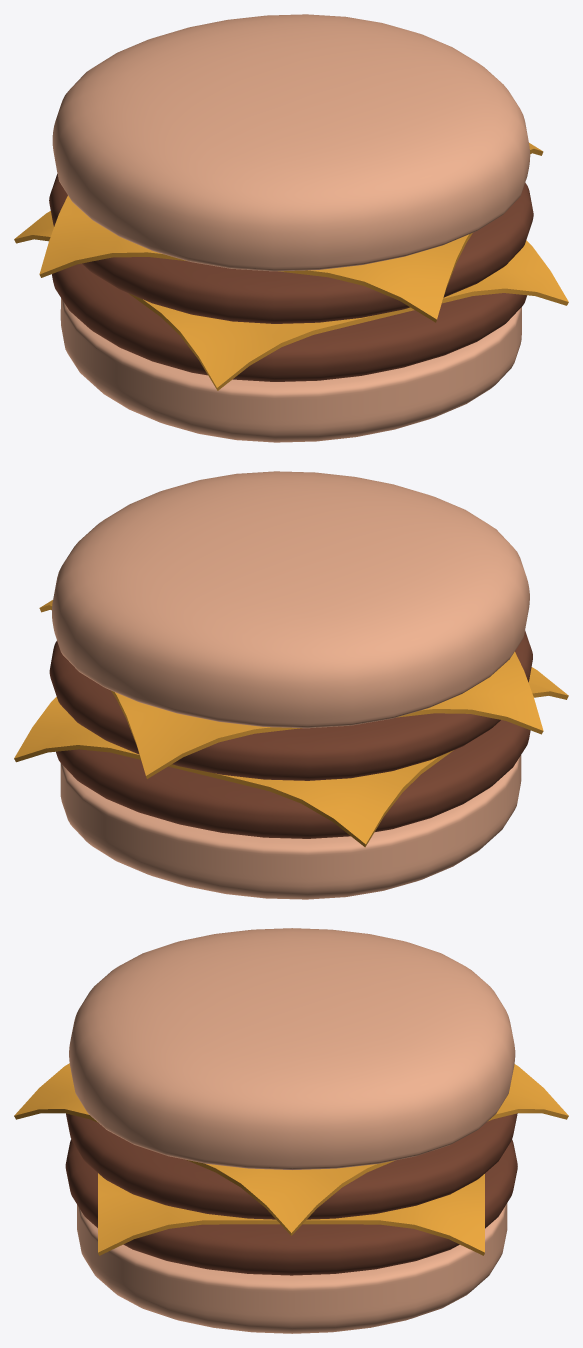
The model's file is hamburger.glb.
The picture shows the model from 3 angles, top to bottom: view 1: azimuth 30°, elevation 25°; view 2: azimuth 150°, elevation 25°; view 3: azimuth 270°, elevation 25°; orthographic projection. The views are drawn at different scales.
Parts seen in each view (by area): view 1: Bottom Bun.001, Bottom Bun, Meat 1, Meat 1.001, Plane, Plane.001; view 2: Bottom Bun.001, Bottom Bun, Meat 1, Meat 1.001, Plane, Plane.001; view 3: Bottom Bun.001, Bottom Bun, Meat 1.001, Meat 1, Plane, Plane.001.
Part boxes in pixels (left/top/right/bottom): Bottom Bun.001: left=52, top=14, right=530, bottom=271; Bottom Bun: left=60, top=298, right=521, bottom=442; Meat 1: left=52, top=263, right=526, bottom=381; Meat 1.001: left=49, top=174, right=533, bottom=323; Plane: left=14, top=211, right=568, bottom=390; Plane.001: left=39, top=143, right=543, bottom=322; Bottom Bun.001: left=52, top=471, right=529, bottom=728; Bottom Bun: left=60, top=755, right=521, bottom=899; Meat 1: left=56, top=720, right=530, bottom=838; Meat 1.001: left=49, top=630, right=532, bottom=780; Plane: left=14, top=667, right=568, bottom=847; Plane.001: left=39, top=600, right=543, bottom=778; Bottom Bun.001: left=69, top=928, right=515, bottom=1169; Bottom Bun: left=77, top=1203, right=507, bottom=1333; Meat 1.001: left=66, top=1113, right=517, bottom=1219; Meat 1: left=65, top=1139, right=517, bottom=1275; Plane: left=98, top=1173, right=484, bottom=1255; Plane.001: left=14, top=1063, right=568, bottom=1235.
Bounding box in the file's own units: 11.83 × 6.53 × 11.83.
